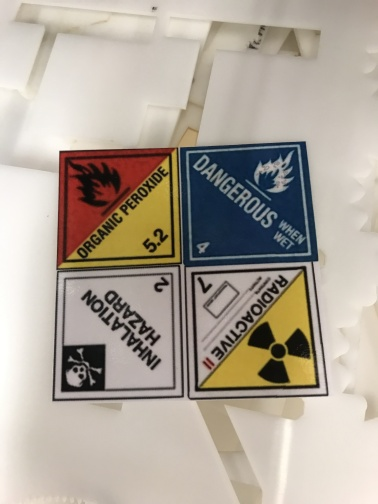DangerousWhenWet: (180, 141, 321, 267)
InhalationHazard: (50, 267, 185, 403)
OrganicPeroxide: (57, 148, 182, 263)
Radioactive: (185, 263, 330, 398)
